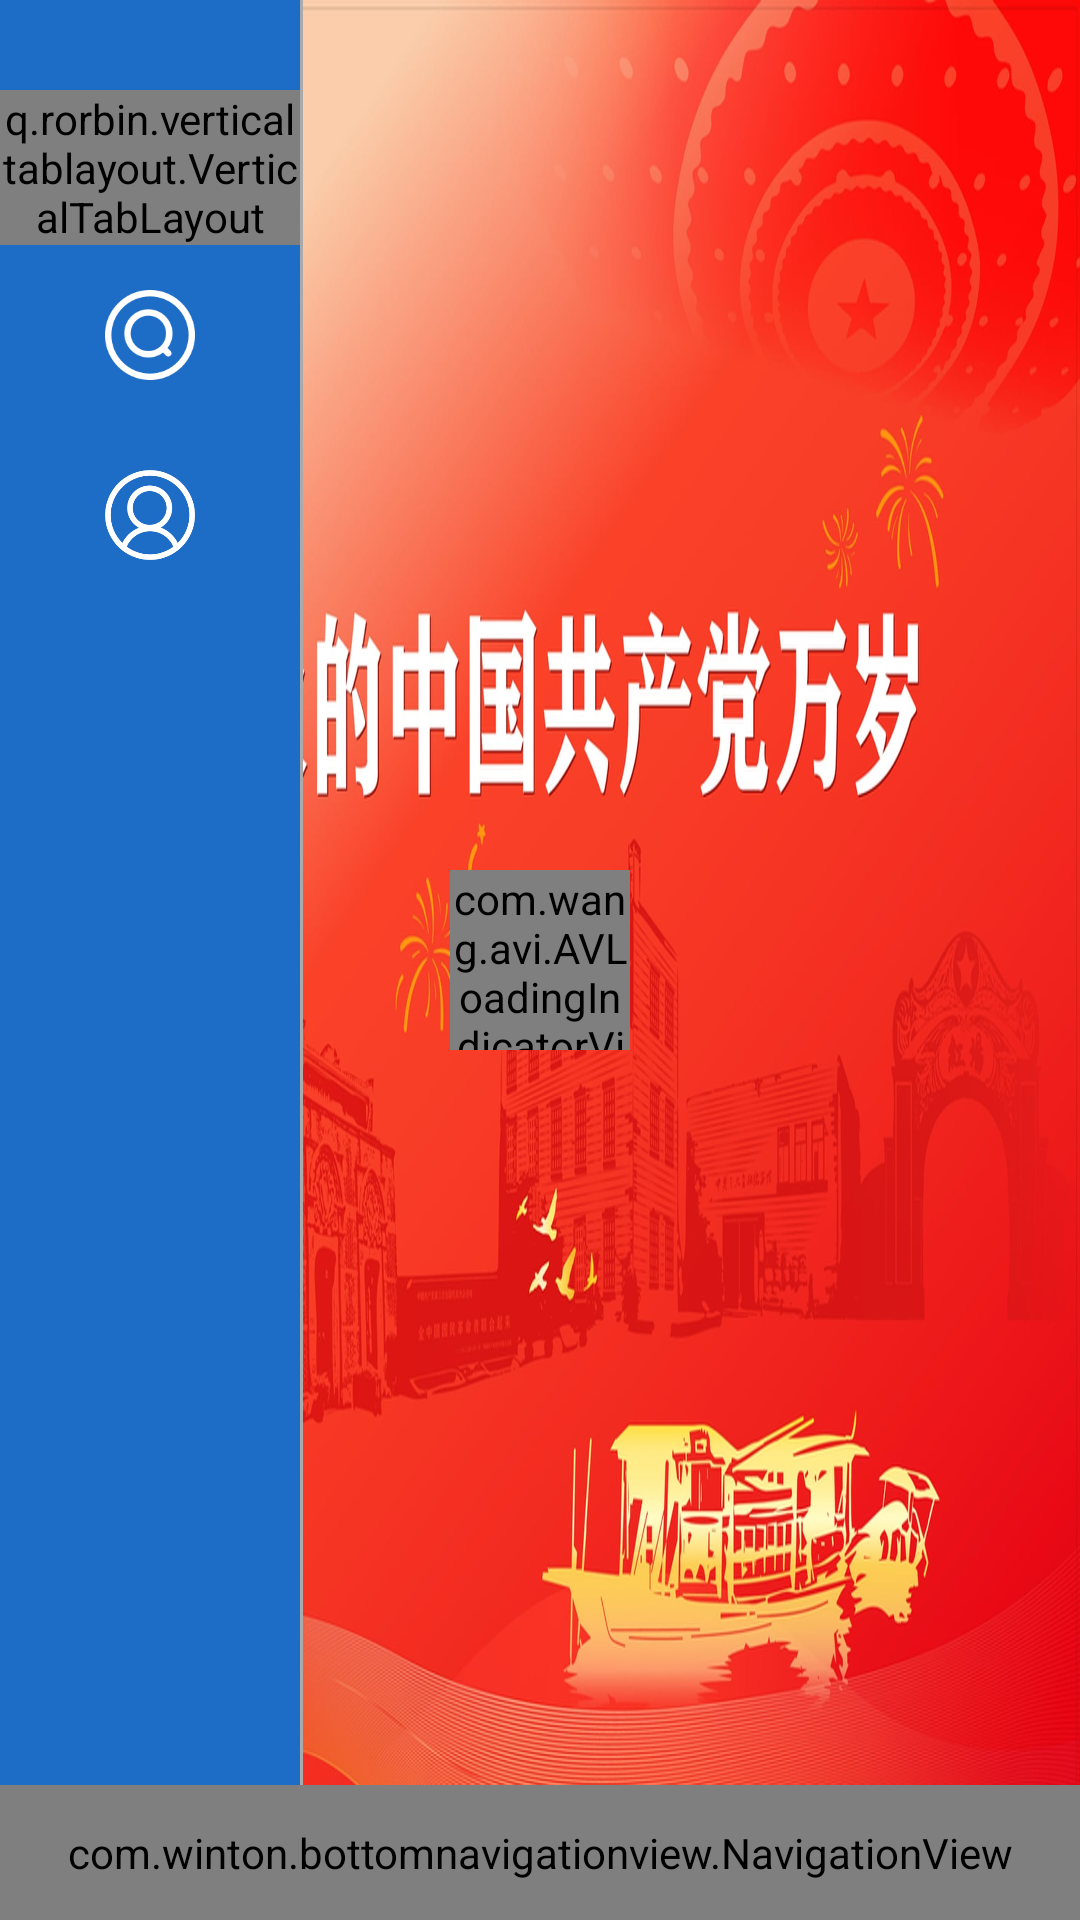

Screen size 1080x1920. Icon name, then its center in pixels as [x,y]:
search: [150,335]
user: [150,515]
